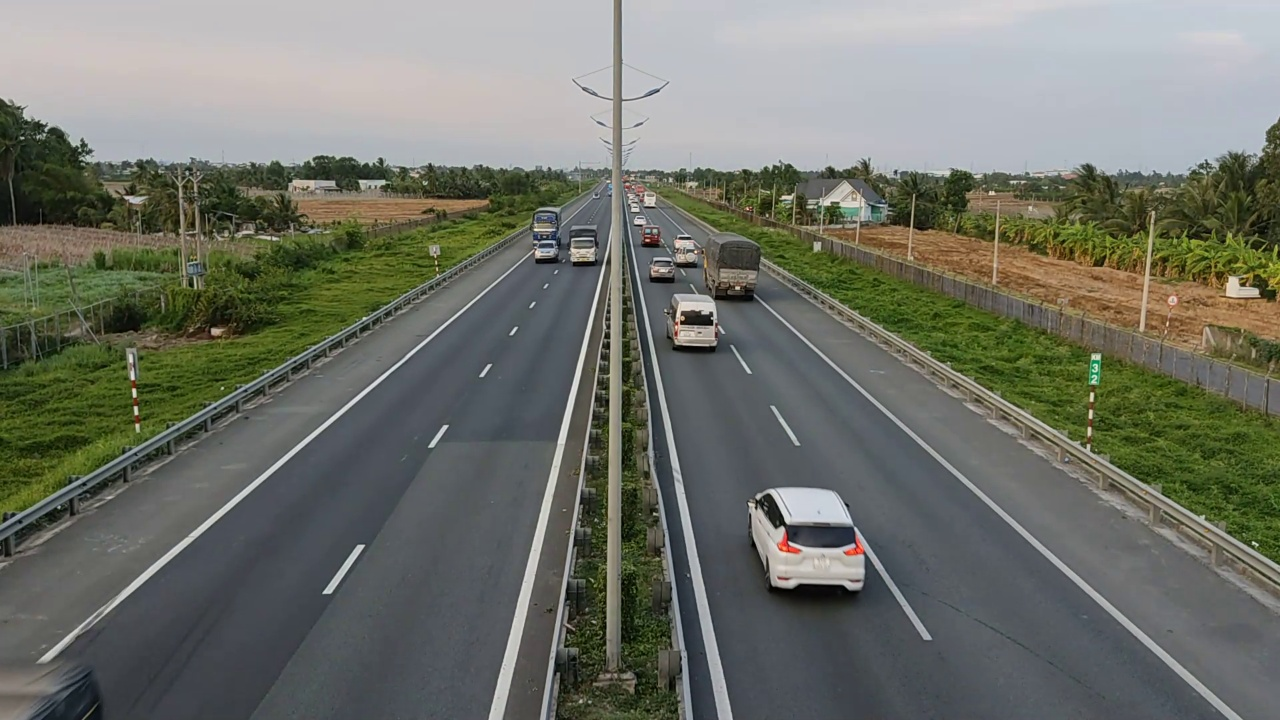car: (746, 486, 867, 593), (665, 293, 722, 352), (648, 257, 676, 281)
truck: (707, 230, 763, 298)
